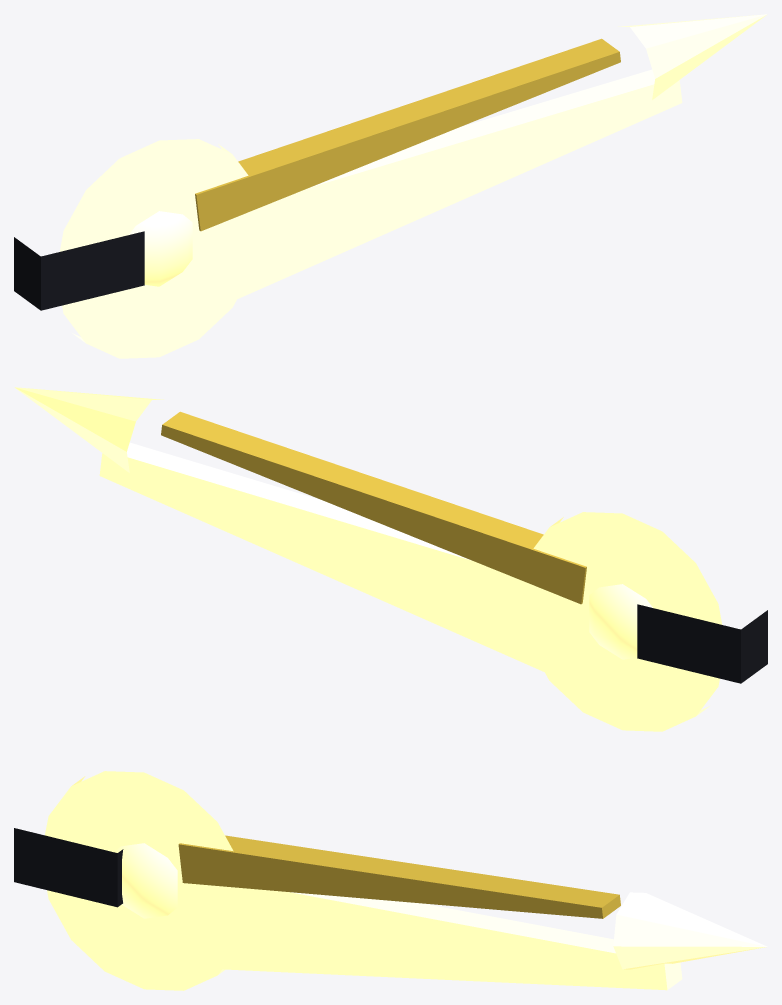
File: radiance.glb
The picture shows the model from 3 angles, top to bottom: view 1: azimuth 30°, elevation 25°; view 2: azimuth 150°, elevation 25°; view 3: azimuth 330°, elevation 25°; orthographic projection.
Visible parts, largest first — view 1: radiance-curved-blade, radiance-sun-disc, radiance-inner-flame, radiance-grip, radiance-tip, radiance-sun-core; view 2: radiance-curved-blade, radiance-sun-disc, radiance-inner-flame, radiance-grip, radiance-tip, radiance-sun-core; view 3: radiance-curved-blade, radiance-sun-disc, radiance-inner-flame, radiance-tip, radiance-grip, radiance-sun-core.
Boxes of the visible parts, x1,y1,x2,y2 form: radiance-curved-blade: (176, 69, 682, 323); radiance-sun-disc: (59, 139, 255, 358); radiance-inner-flame: (195, 38, 620, 231); radiance-grip: (14, 231, 144, 310); radiance-tip: (618, 14, 767, 99); radiance-sun-core: (129, 211, 192, 286); radiance-curved-blade: (99, 442, 605, 696); radiance-sun-disc: (522, 512, 722, 731); radiance-inner-flame: (161, 411, 586, 604); radiance-grip: (637, 604, 767, 683); radiance-tip: (14, 387, 163, 472); radiance-sun-core: (589, 584, 652, 659); radiance-curved-blade: (162, 872, 682, 990); radiance-sun-disc: (45, 771, 247, 990); radiance-inner-flame: (178, 835, 620, 918); radiance-tip: (613, 892, 767, 969); radiance-grip: (14, 828, 123, 907); radiance-sun-core: (114, 843, 177, 918).
Bounding box in the file's own units: 1.43 × 0.4 × 0.14.
